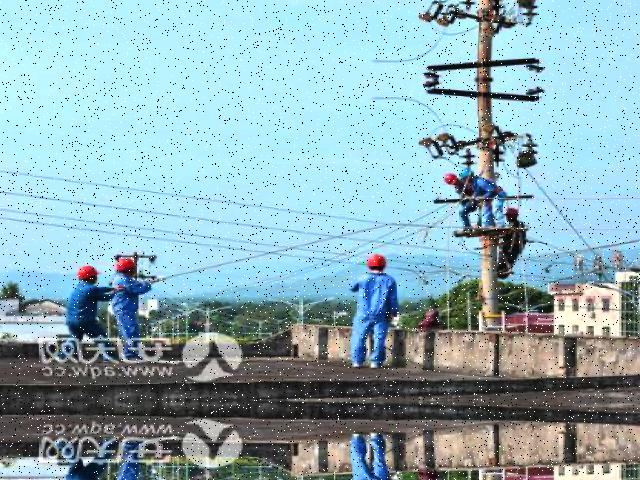Helmet: (77, 262, 105, 284), (362, 253, 394, 272), (118, 254, 140, 279), (459, 164, 479, 179), (444, 172, 461, 186)
